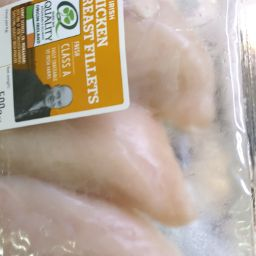Chicken breast: (12, 130, 209, 229)
